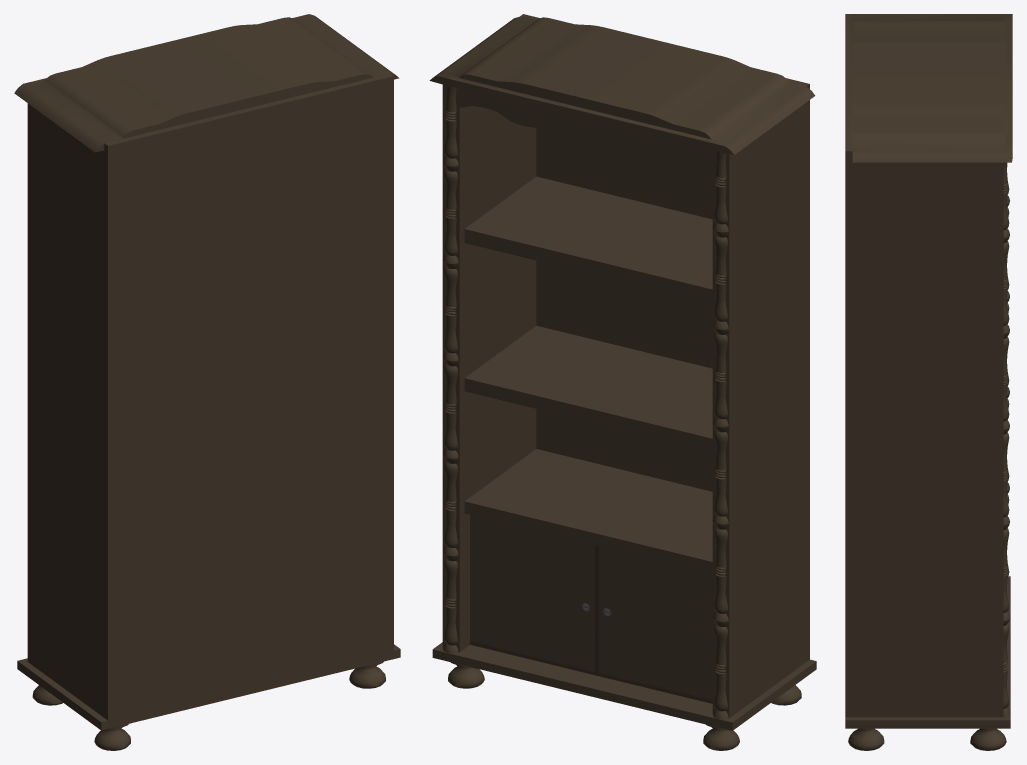
Rendered from BookshelfLP.fbx.
3 renders of one model, left to right at view 1: azimuth 30°, elevation 25°; view 2: azimuth 150°, elevation 25°; view 3: azimuth 270°, elevation 25°, orthographic.
Parts seen in each view (by area): view 1: Bookshelf; view 2: Bookshelf; view 3: Bookshelf.
Part boxes in pixels (x1,y1,x2,y2): Bookshelf: (14,14,400,750); Bookshelf: (429,14,816,750); Bookshelf: (845,14,1012,750).
Bounding box in the file's own units: 109 × 213 × 52.78.
